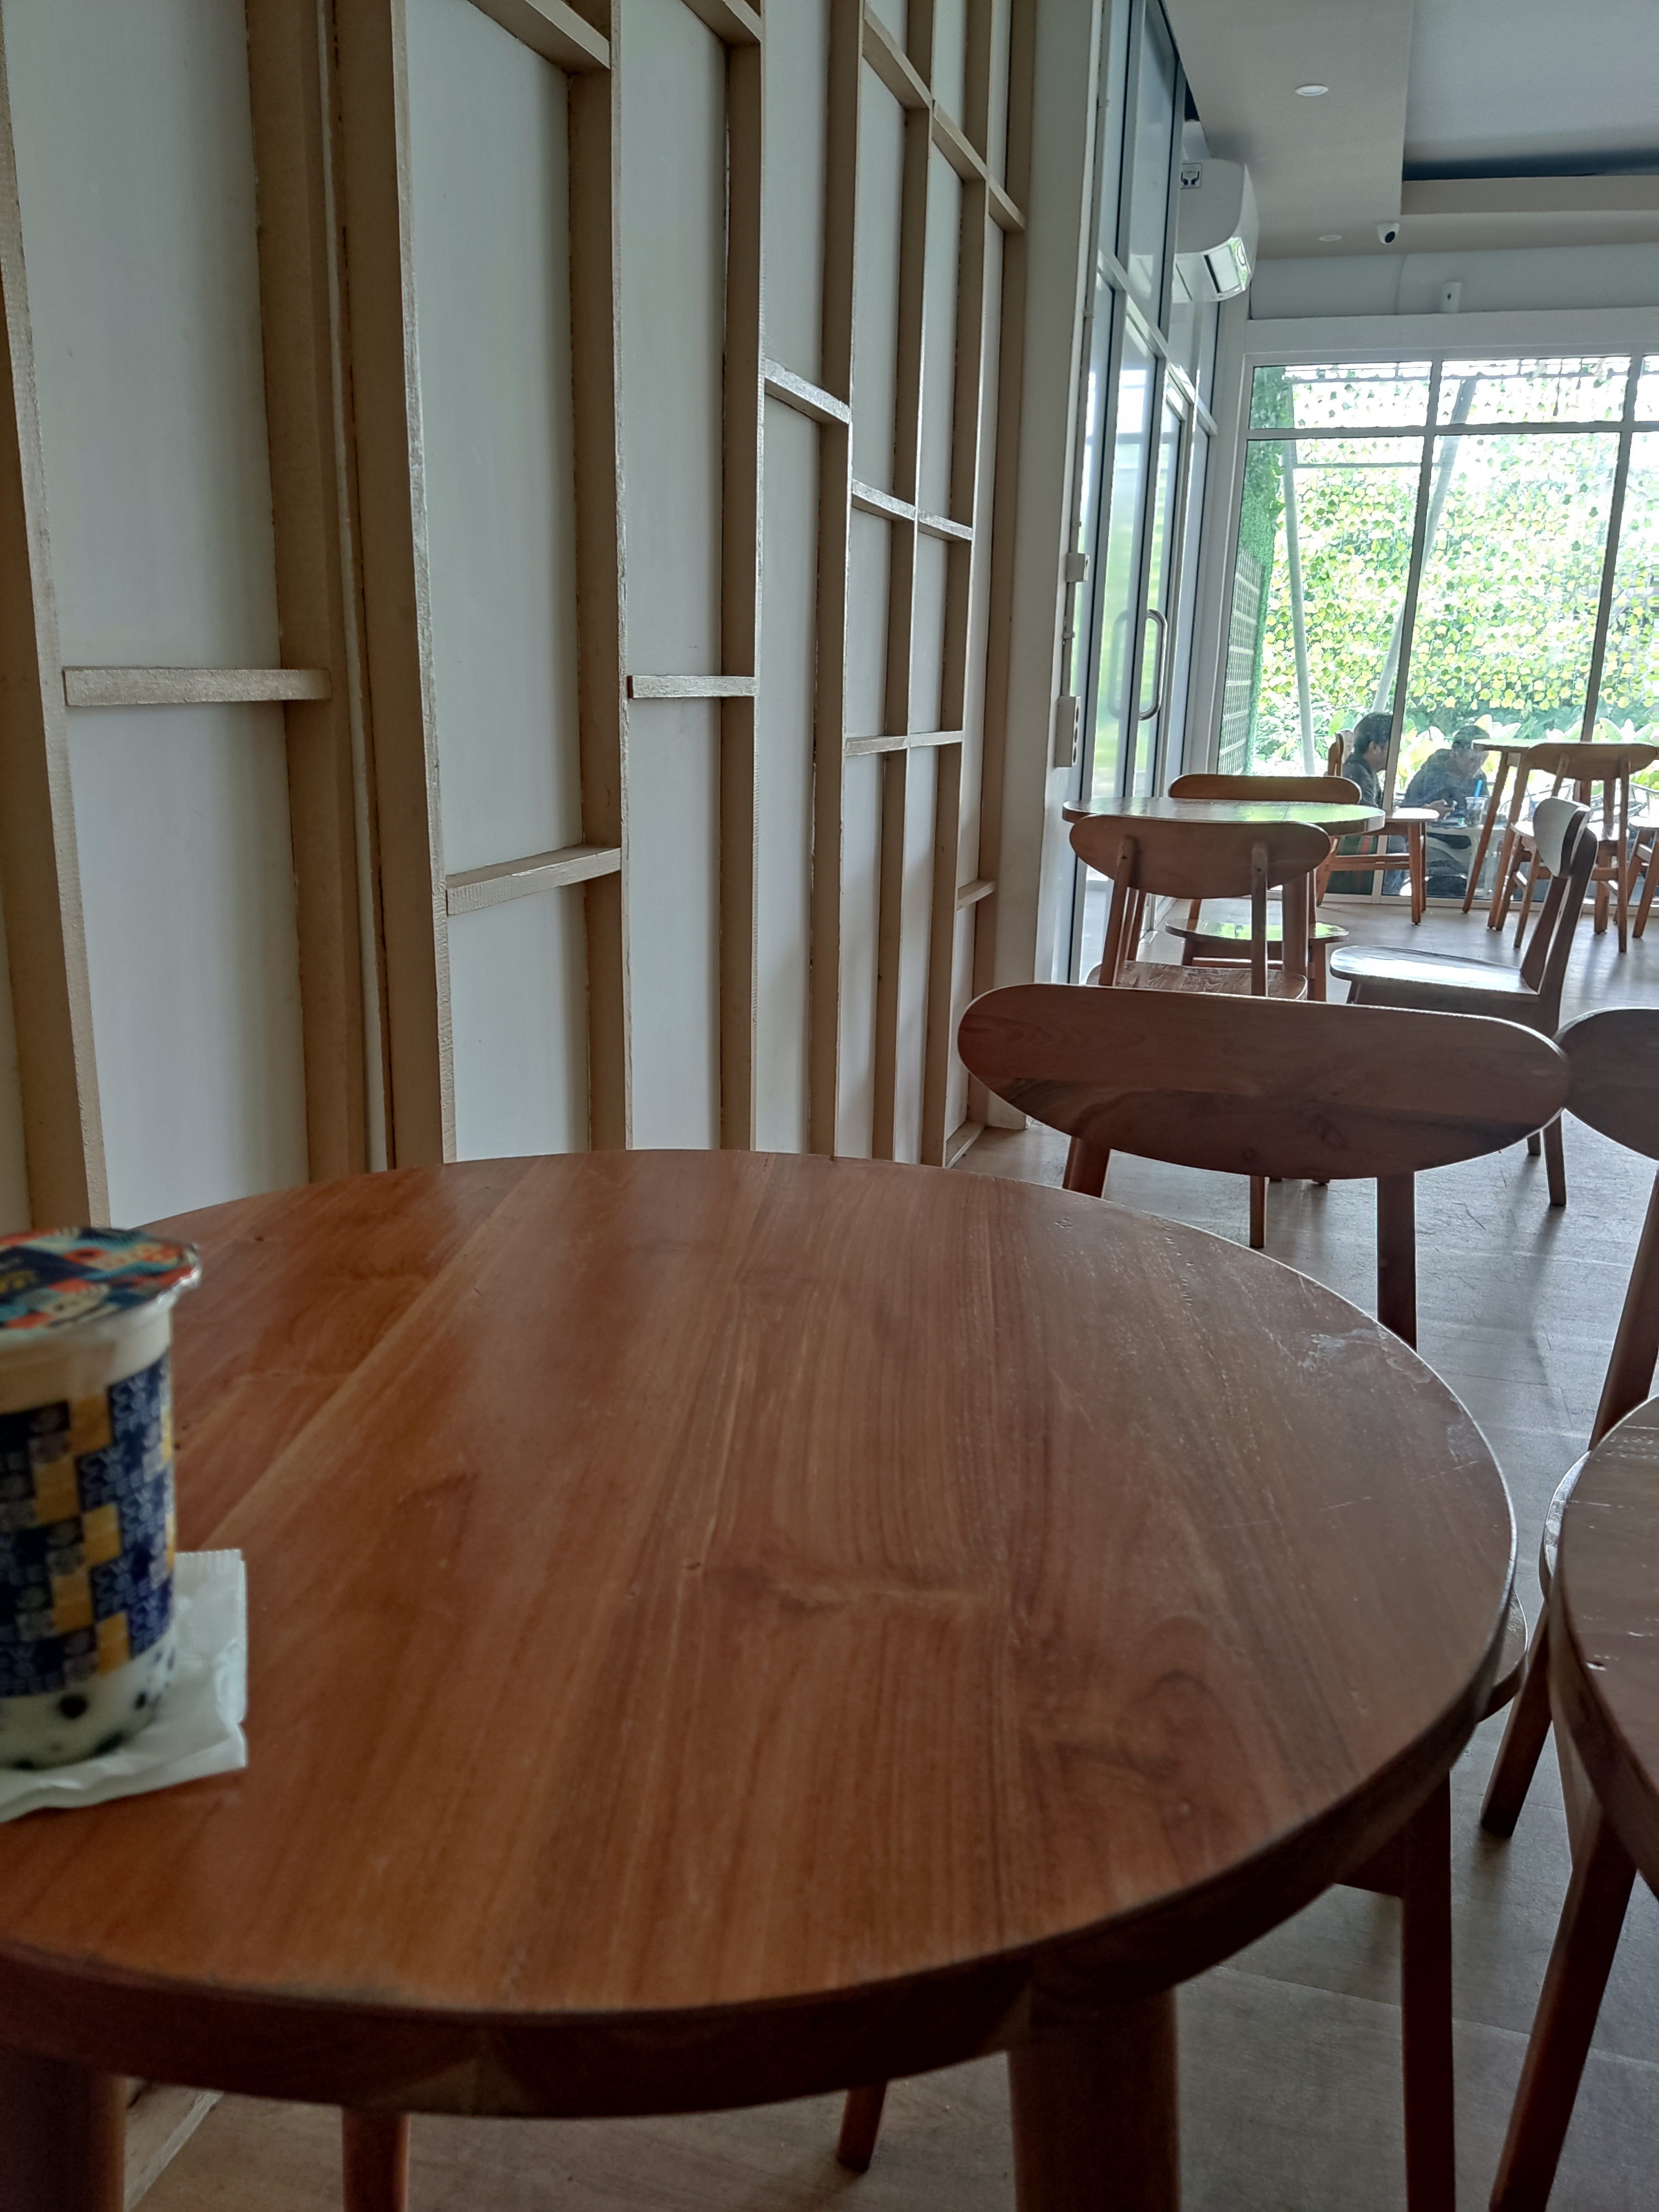Gelas CW: (2, 1230, 256, 1794)
